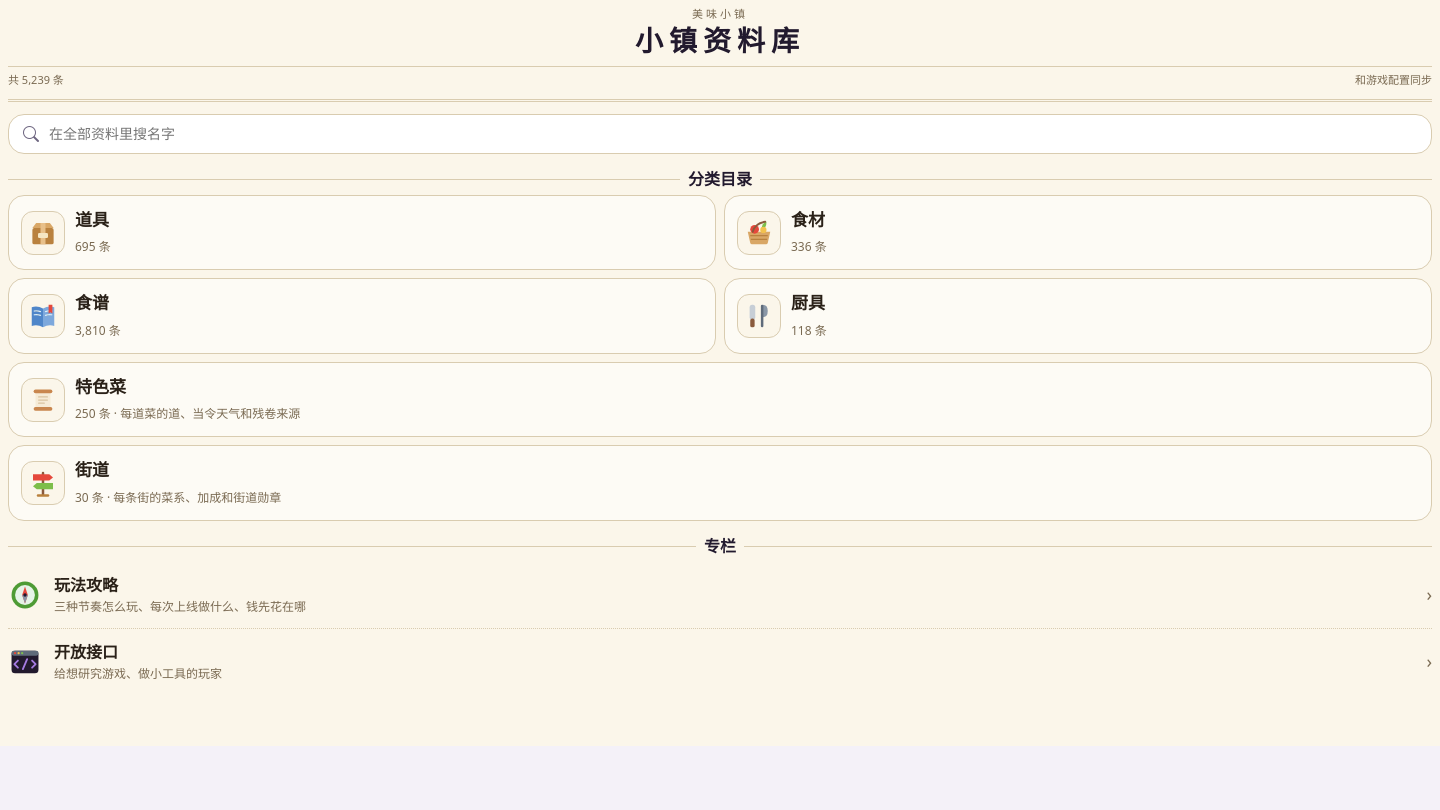
Test: 游戏资料首页（问题记录 142） › 什么都没搜到：写“没有找到”
In the search field with test id "wiki-home-q": (732, 134) [47,122,1417,145], type "不存在的东西"
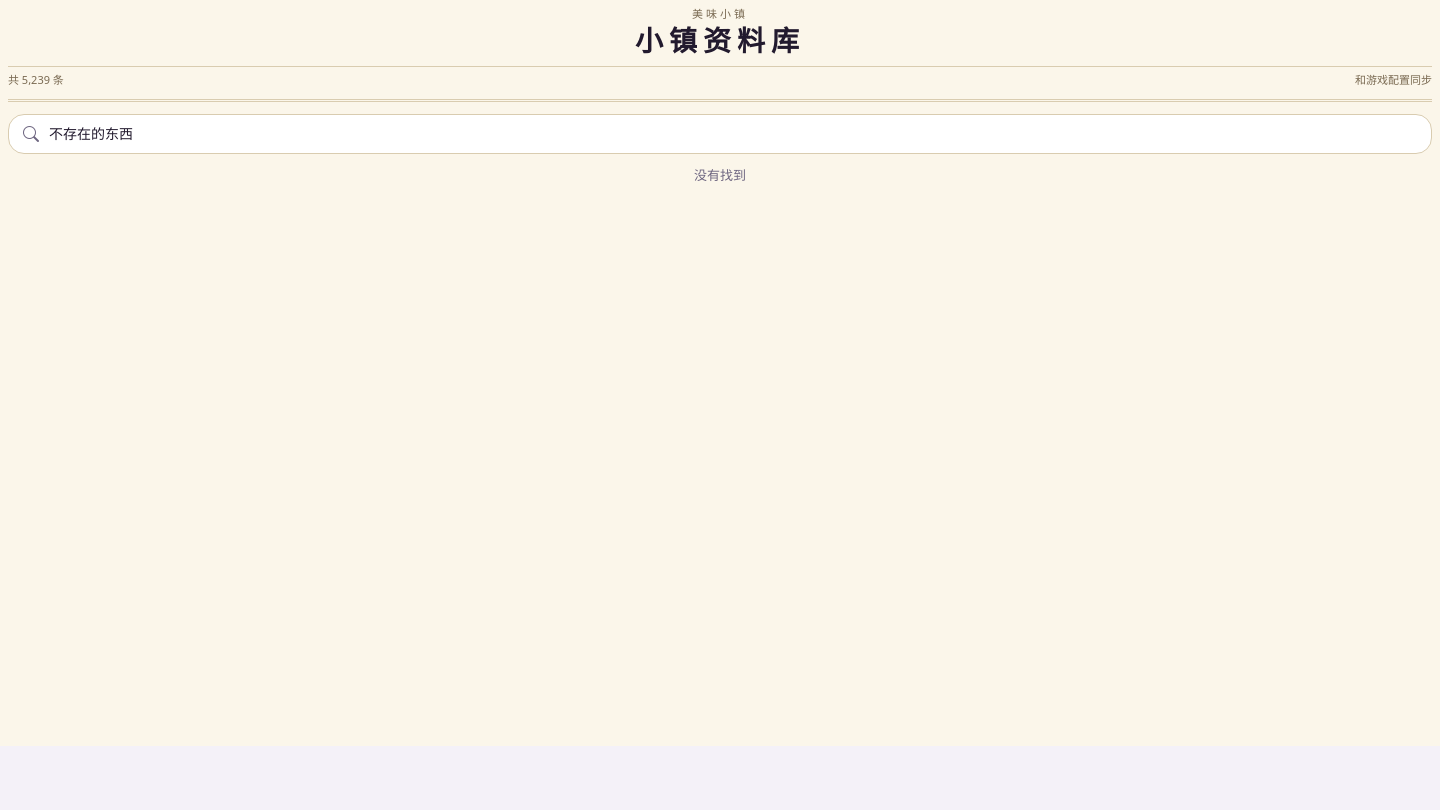
Check: the element with test id "wiki-hits" reads "没有找到", box [694,166,746,184]
